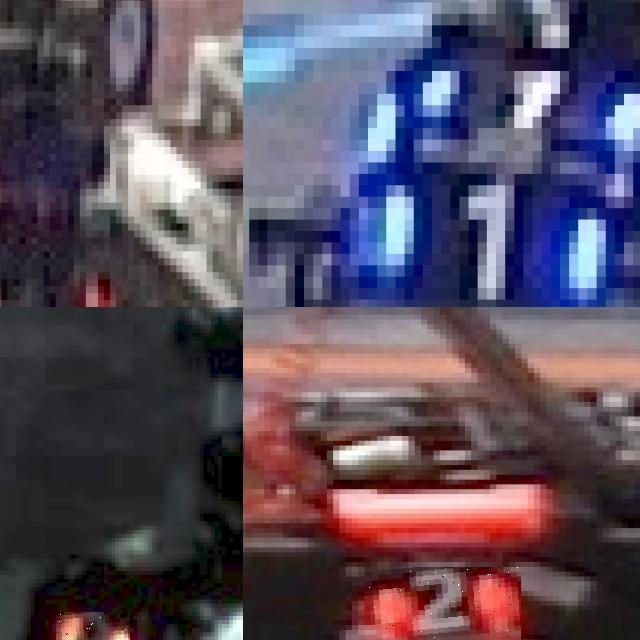B1: (345, 150, 610, 307), (381, 2, 640, 150)
R2: (364, 566, 521, 640)
Rs: (56, 612, 129, 640)
